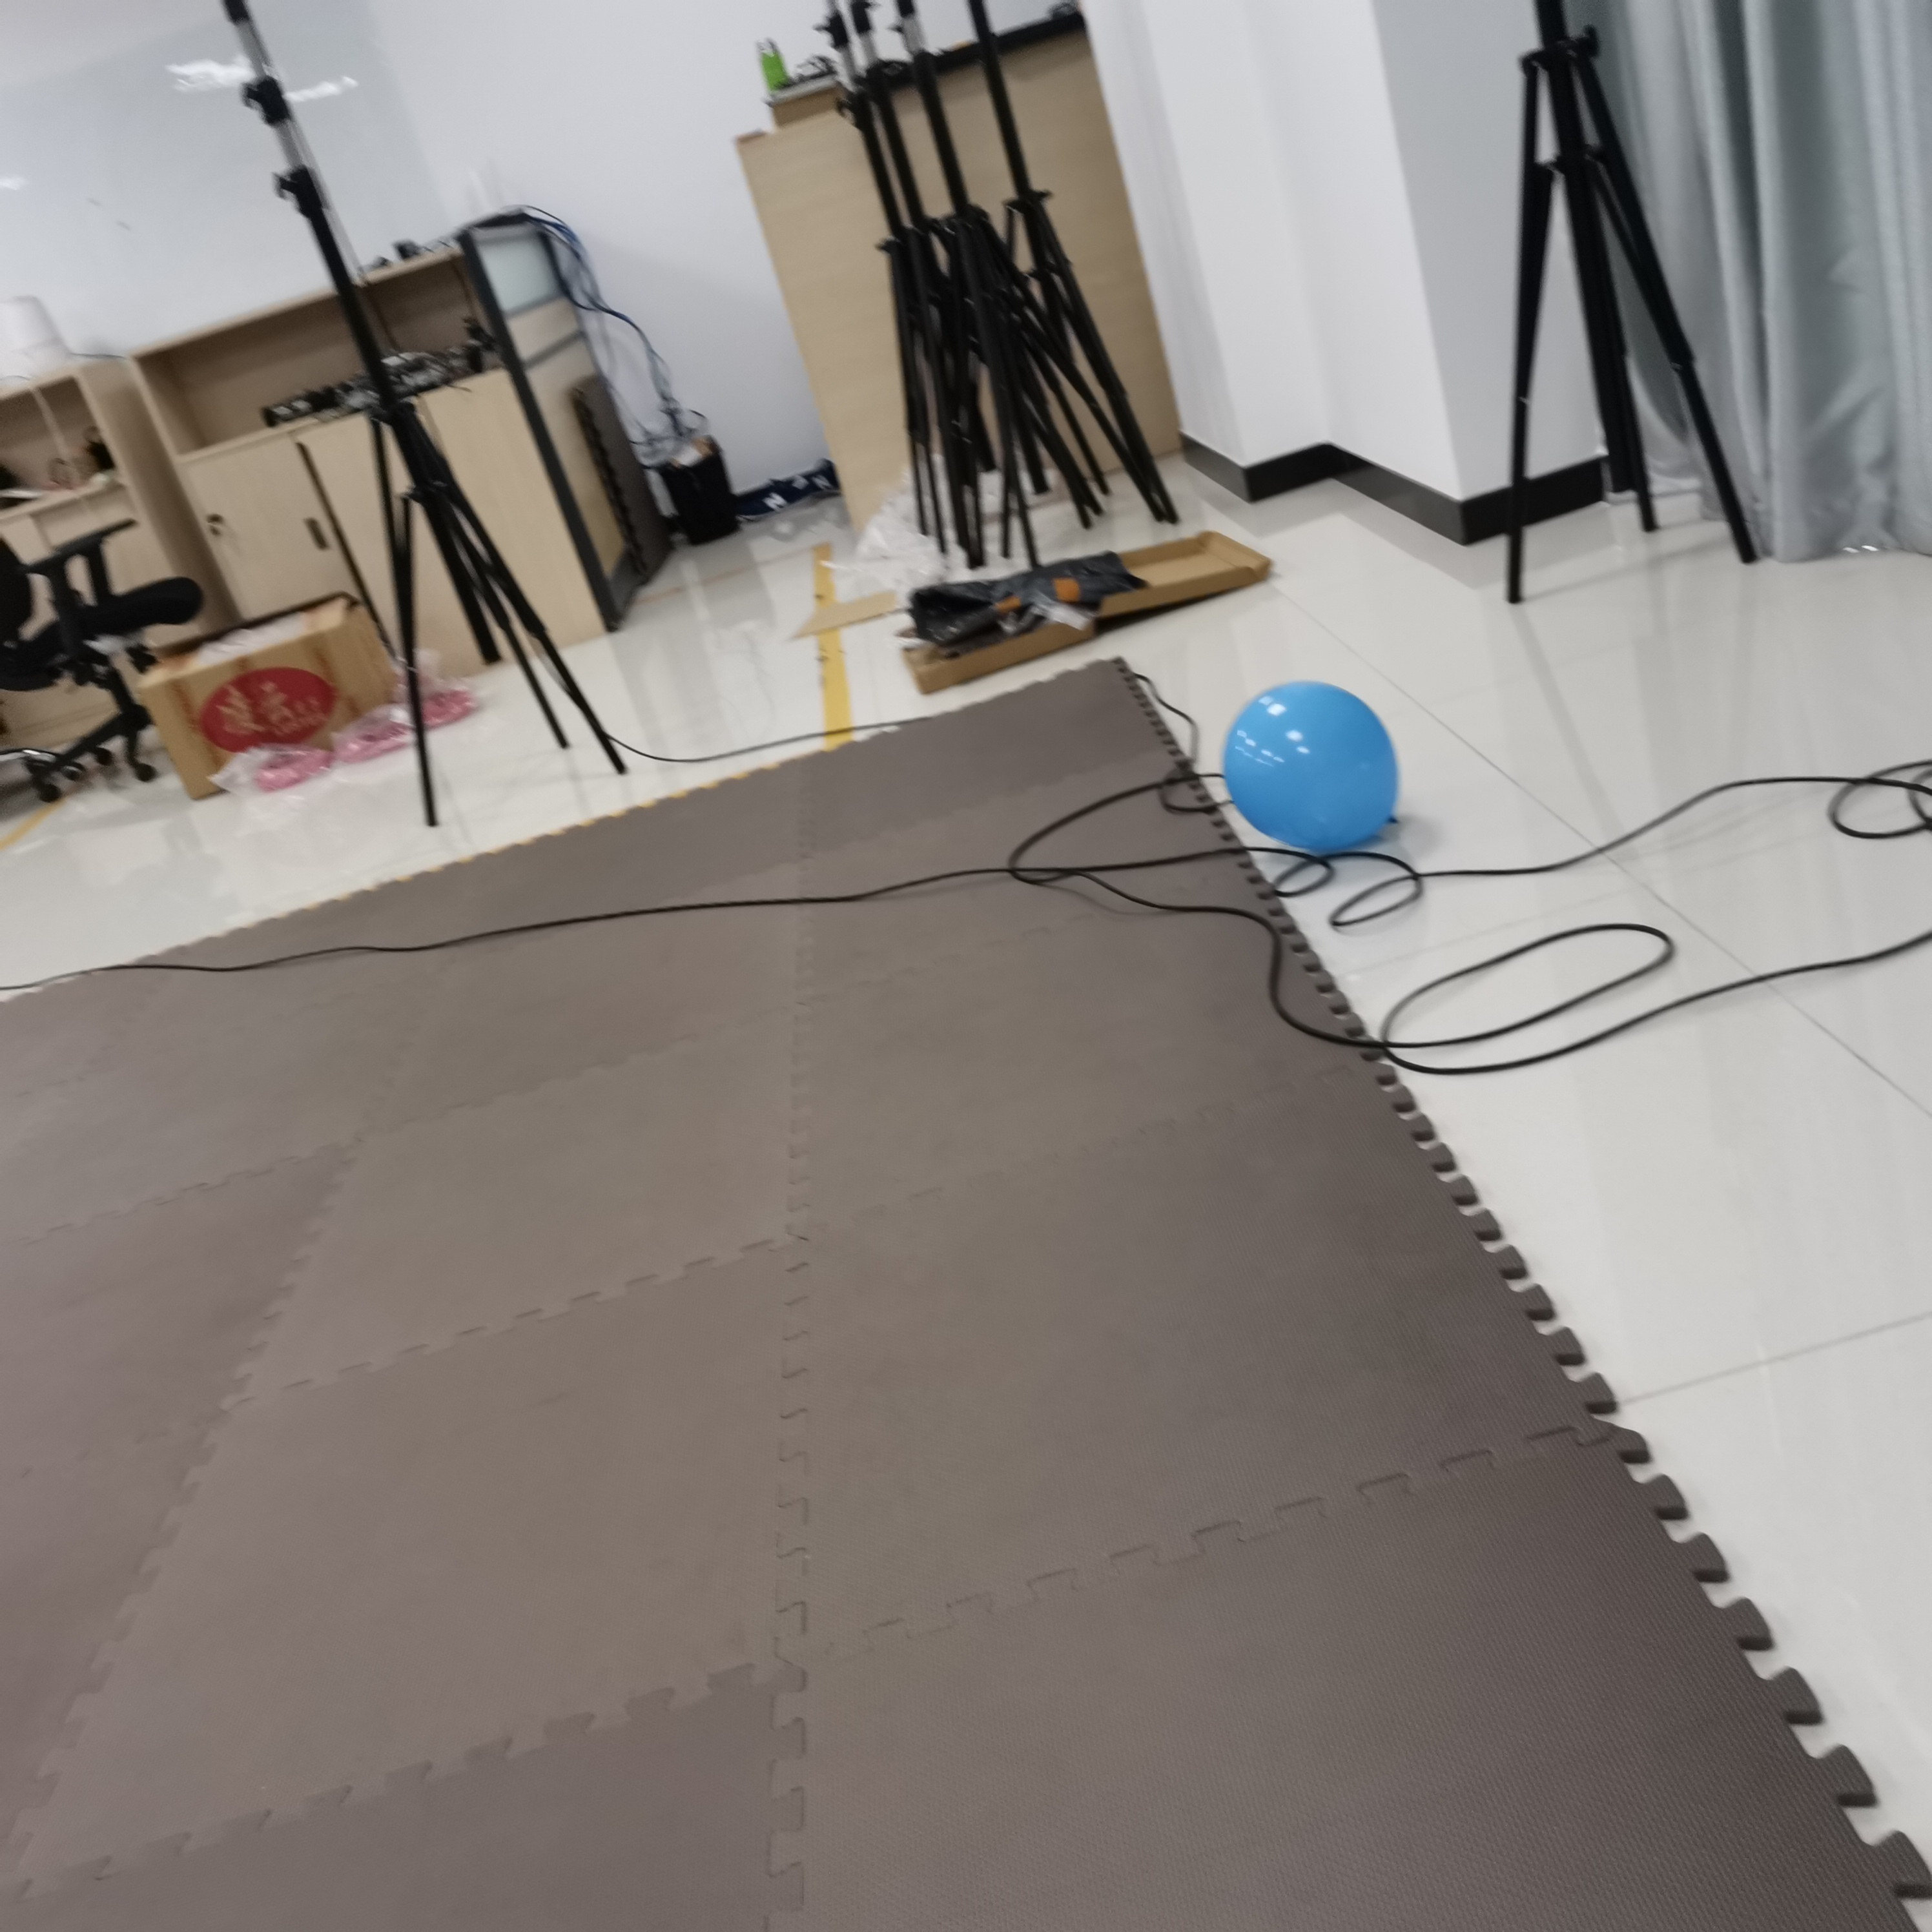balloon: (1223, 681, 1403, 853)
